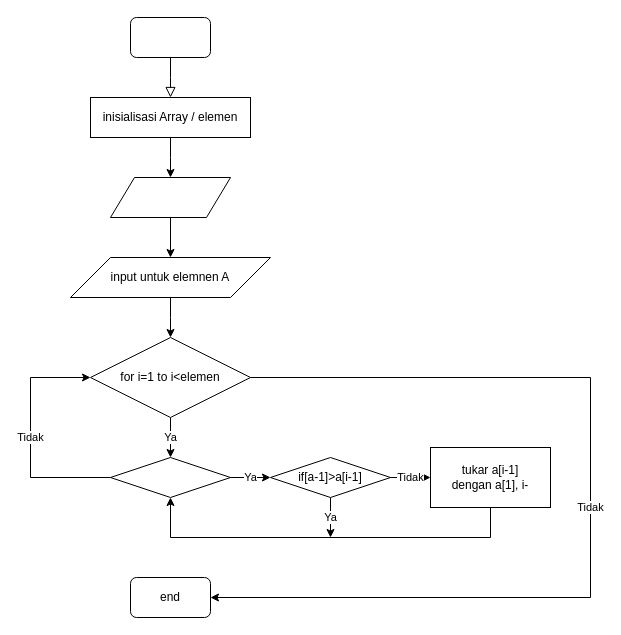
The diagram is 621 pixels wide and 635 high, and some of its shapes have lost their labels. The centre of each missing label's shape, as x and y in pixels:
"inout elemen" belongs at point (170, 197).
"start" belongs at point (170, 37).
"while i>0" belongs at point (170, 477).
